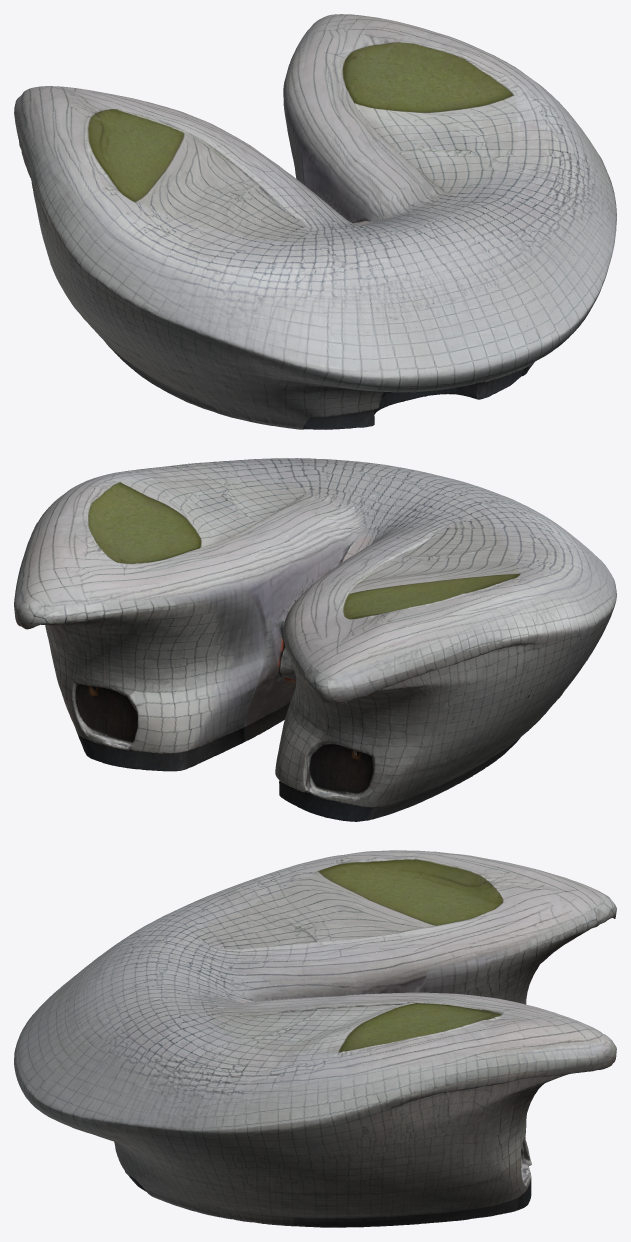
Rendered from DDP_본관.glb.
The picture shows the model from 3 angles, top to bottom: view 1: azimuth 30°, elevation 25°; view 2: azimuth 150°, elevation 25°; view 3: azimuth 270°, elevation 25°; orthographic projection. The views are drawn at different scales.
Visible parts, largest first — view 1: texture_mapping; view 2: texture_mapping; view 3: texture_mapping.
Part boxes in pixels (x1,y1,x2,y2): texture_mapping: (14,14,616,429); texture_mapping: (14,458,616,821); texture_mapping: (14,850,616,1227).
Bounding box in the file's own units: 0.9498 × 0.3598 × 0.9977.
Materials: 1 (1 with a texture image).
